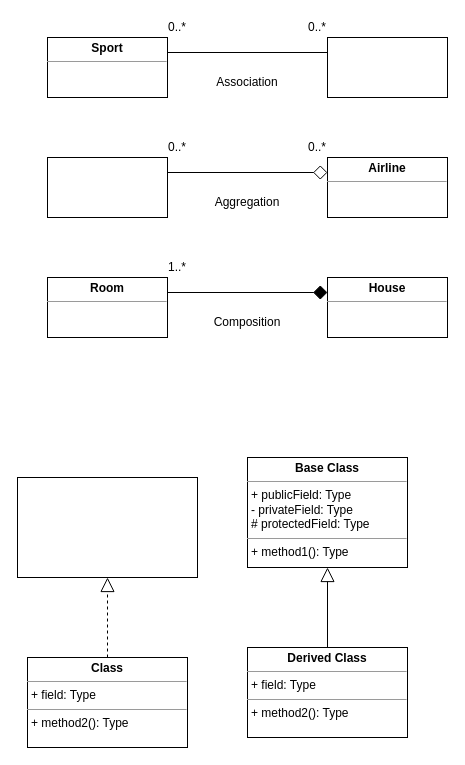
The diagram is 465 pixels wide and 765 high, and some of its shapes have lost their labels. Here are the shapes that lost their labels. From the top down, the box of each, then its label:
(326, 36, 448, 98): Student
(46, 156, 168, 218): Crew Member
(16, 476, 198, 578): <<Interface>> Interface + method1(Type, Type): Type
